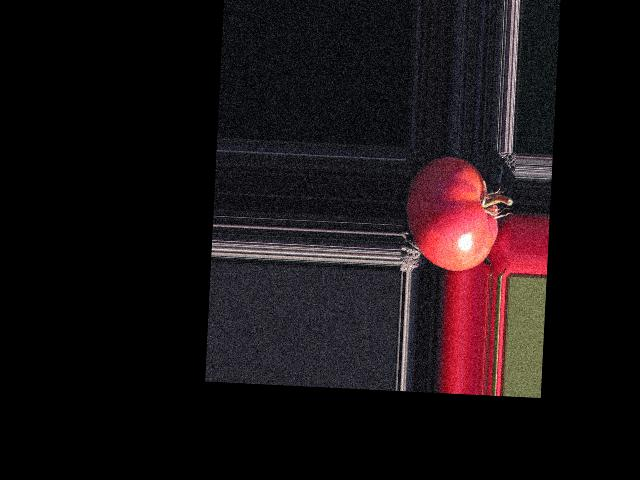tomato: (403, 154, 500, 272)
